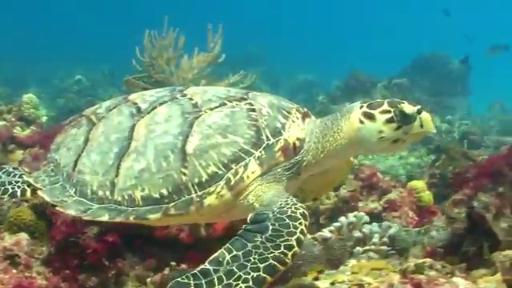Fish: (0, 87, 435, 287)
